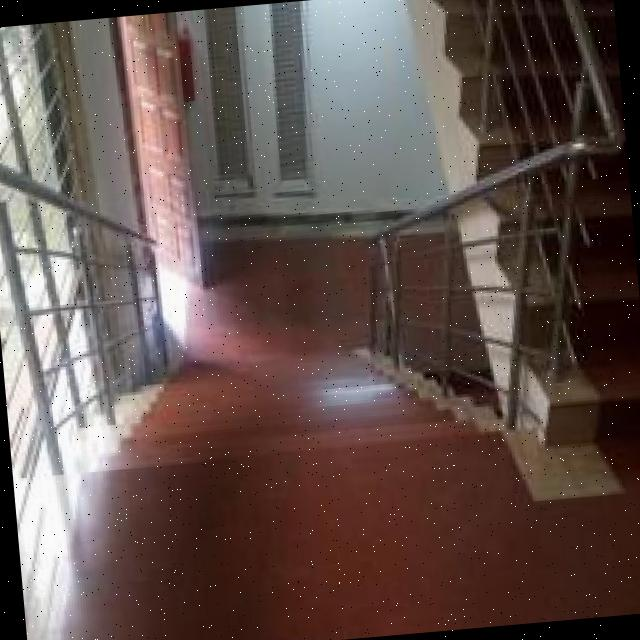stairs: (422, 0, 640, 462)
